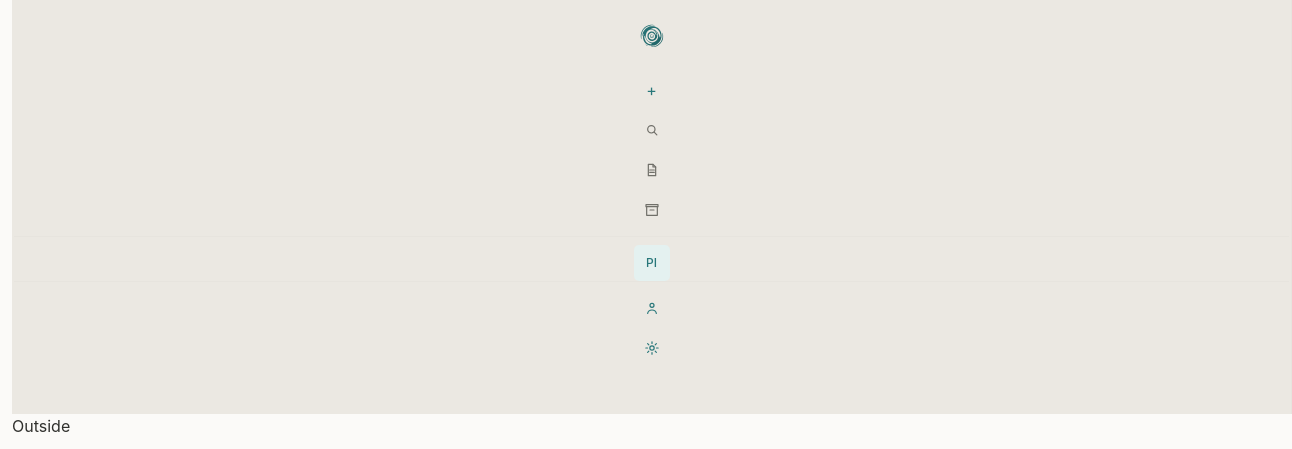
Library Rail › searches archived translations and supports Enter to enter results
The image size is (1292, 449).
Click the button named "Search articles": click(652, 130) 634,112 -> 670,148
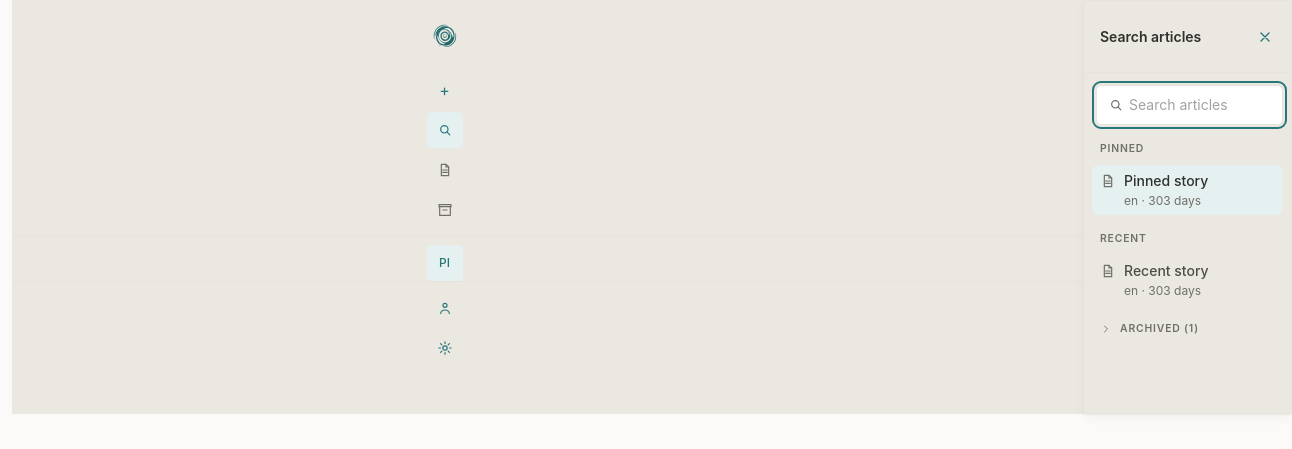
In the field labelled "Search articles": (1190, 105) 1096,85 -> 1283,125, type "Spanish"
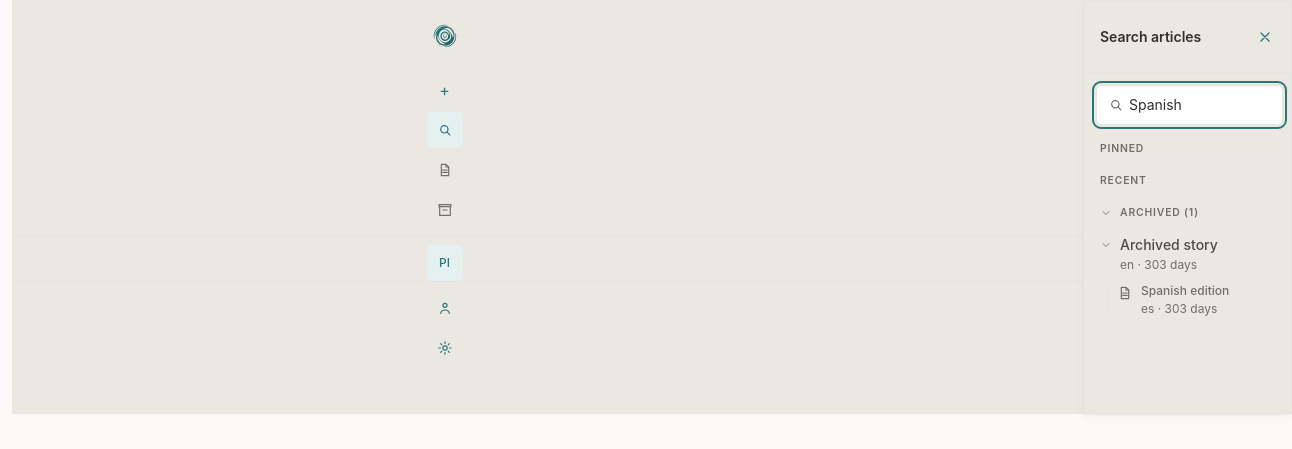
Check: the button "Pinned story" is gone
Press ArrowDown in the field named "Search articles", box 1096,85 -> 1283,125
Press Enter Arrowdown Enter
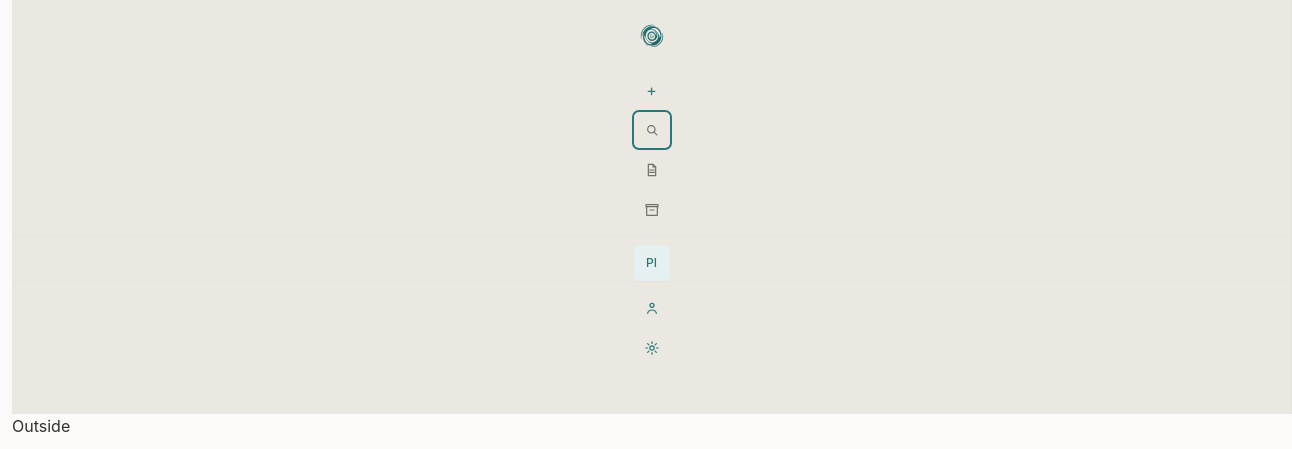
Check: the field is gone
